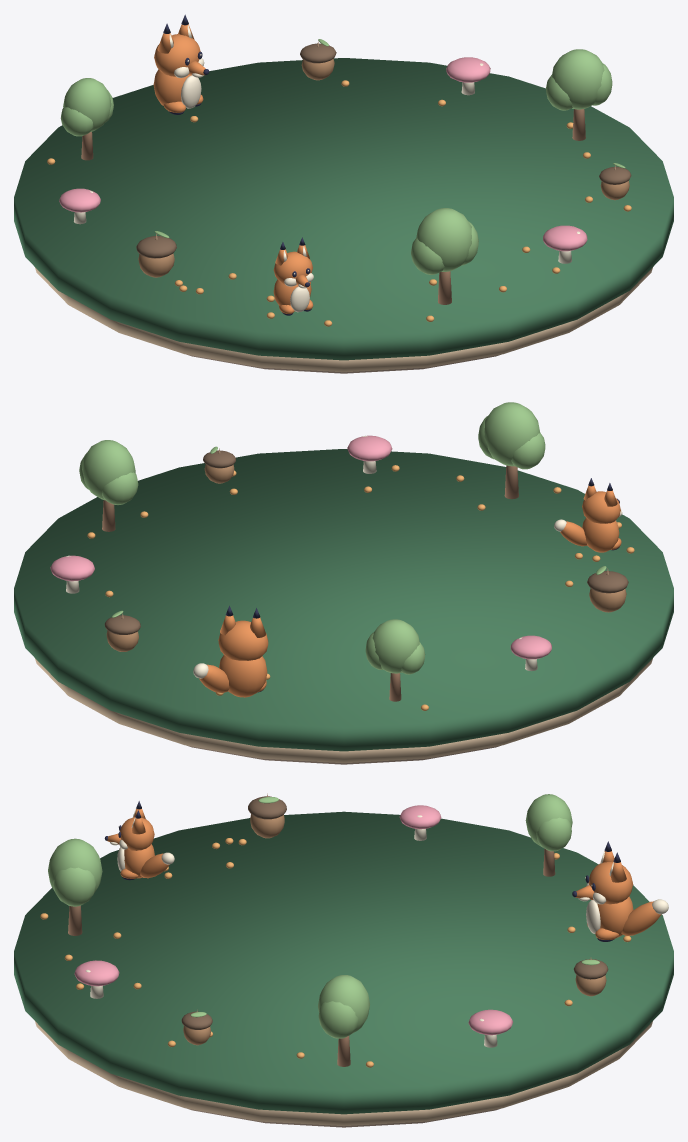
File: world.glb
The picture shows the model from 3 angles, top to bottom: view 1: azimuth 30°, elevation 25°; view 2: azimuth 150°, elevation 25°; view 3: azimuth 270°, elevation 25°; orthographic projection.
Visible parts, largest first — view 1: Cone, Cone.001, tree.003, fox.001, tree.001, tree.002, fox.002, acorn.002, acorn.001, mushroom.003, mushroom.001, mushroom.002 (+2 smaller); view 2: Cone, Cone.001, fox.001, tree.003, tree.001, tree.002, fox.002, acorn.002, acorn.001, mushroom.003, mushroom.001, mushroom.002 (+2 smaller); view 3: Cone, Cone.001, fox.001, tree.003, tree.001, fox.002, tree.002, acorn.002, mushroom.003, mushroom.001, acorn.001, mushroom.002 (+2 smaller).
Part boxes in pixels (left/top/right/bottom): Cone: left=14, top=58, right=673, bottom=360; Cone.001: left=35, top=267, right=652, bottom=372; tree.003: left=411, top=208, right=478, bottom=304; fox.001: left=153, top=14, right=209, bottom=114; tree.001: left=546, top=49, right=612, bottom=140; tree.002: left=60, top=78, right=113, bottom=160; fox.002: left=273, top=237, right=313, bottom=315; acorn.002: left=136, top=231, right=176, bottom=277; acorn.001: left=300, top=39, right=336, bottom=80; mushroom.003: left=543, top=225, right=587, bottom=263; mushroom.001: left=446, top=57, right=490, bottom=95; mushroom.002: left=59, top=188, right=100, bottom=224; Cone: left=14, top=449, right=673, bottom=751; Cone.001: left=35, top=658, right=652, bottom=763; fox.001: left=193, top=605, right=268, bottom=697; tree.003: left=478, top=402, right=545, bottom=499; tree.001: left=79, top=440, right=138, bottom=531; tree.002: left=365, top=619, right=425, bottom=701; fox.002: left=554, top=478, right=622, bottom=552; acorn.002: left=587, top=566, right=628, bottom=612; acorn.001: left=104, top=610, right=140, bottom=651; mushroom.003: left=347, top=435, right=392, bottom=473; mushroom.001: left=50, top=555, right=94, bottom=593; mushroom.002: left=510, top=635, right=551, bottom=671; Cone: left=14, top=811, right=673, bottom=1114; Cone.001: left=35, top=1021, right=652, bottom=1126; fox.001: left=572, top=841, right=668, bottom=941; tree.003: left=48, top=838, right=102, bottom=935; tree.001: left=318, top=975, right=369, bottom=1066; fox.002: left=104, top=801, right=174, bottom=880; tree.002: left=525, top=794, right=572, bottom=876; acorn.002: left=248, top=793, right=286, bottom=838; mushroom.003: left=74, top=960, right=119, bottom=998; mushroom.001: left=468, top=1009, right=512, bottom=1047; acorn.001: left=573, top=957, right=608, bottom=996; mushroom.002: left=399, top=805, right=441, bottom=840.
Size of the model in its own units: 9.6 by 2.27 by 9.6.
